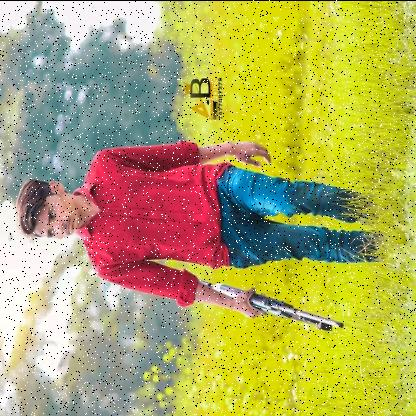rifle: (197, 278, 346, 332)
